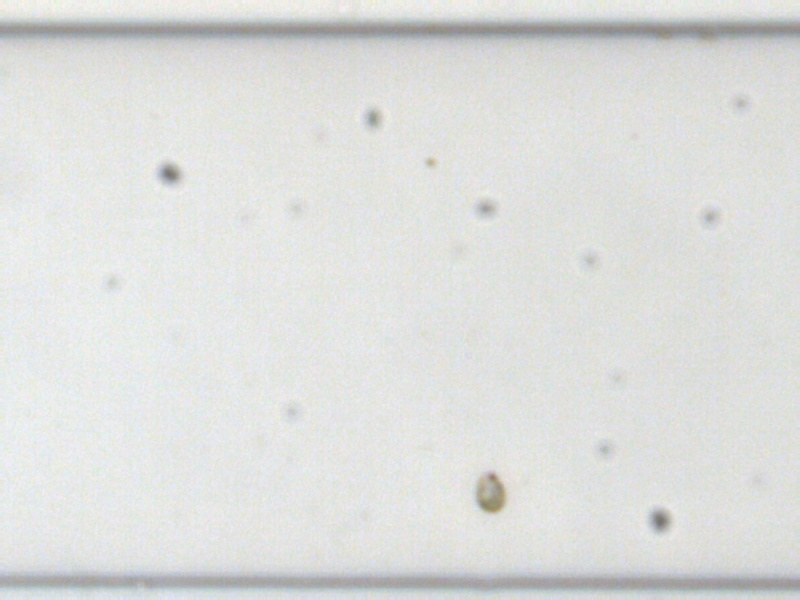Chlorella: (423, 156, 435, 168)
Dunaliella salina: (473, 468, 504, 513)
